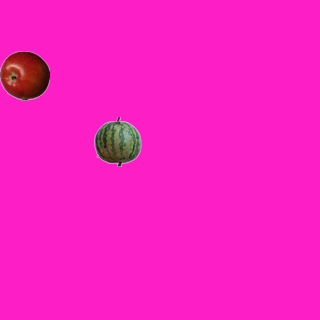Apple Braeburn: (0, 50, 49, 100)
Watermelon: (92, 116, 142, 166)
